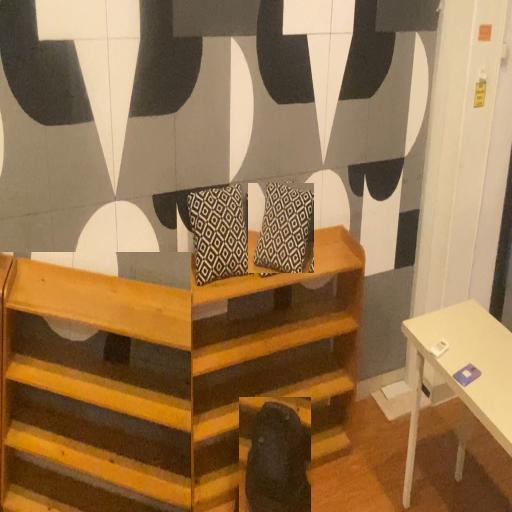bantal: (186, 182, 254, 286), (248, 183, 314, 273)
hp: (450, 359, 484, 391)
lemari: (0, 252, 191, 512)
remote AC: (428, 338, 450, 364)
tas ransel: (239, 397, 311, 512)
